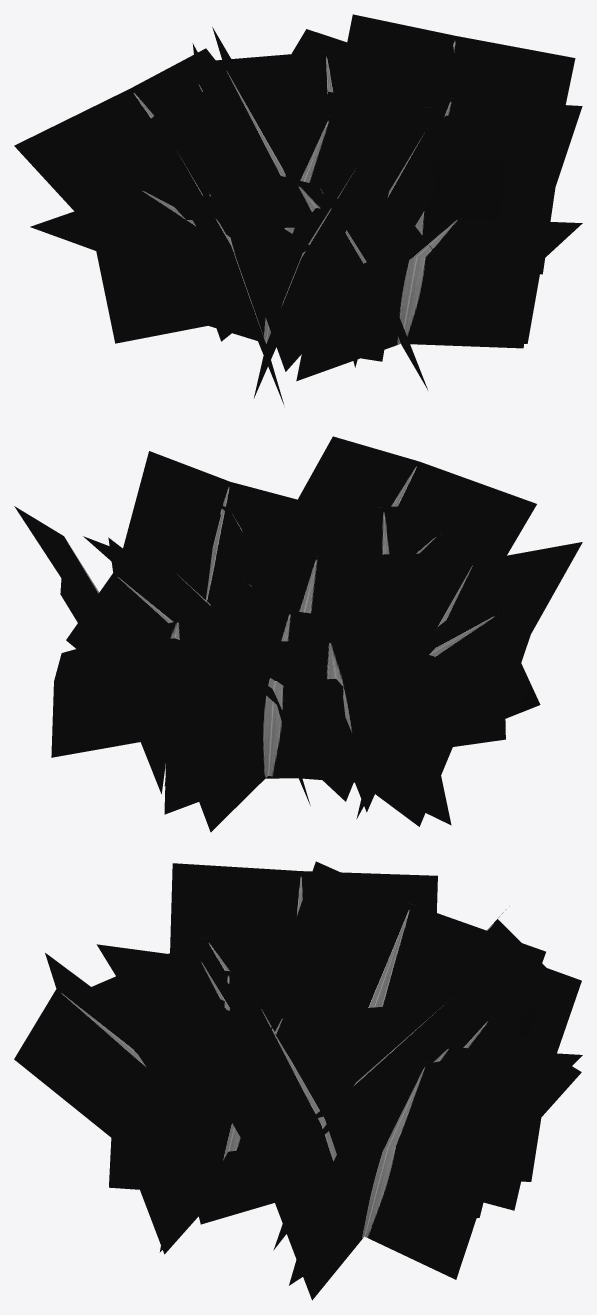
Rendered from WheatPlant01.fbx.
3 renders of one model, top to bottom at view 1: azimuth 30°, elevation 25°; view 2: azimuth 150°, elevation 25°; view 3: azimuth 270°, elevation 25°, orthographic. The views are drawn at different scales.
Visible parts, largest first — view 1: WheatPlant01_LOD0; view 2: WheatPlant01_LOD0; view 3: WheatPlant01_LOD0.
Part boxes in pixels (x1,y1,x2,y2): WheatPlant01_LOD0: (14, 14, 582, 405); WheatPlant01_LOD0: (14, 436, 582, 832); WheatPlant01_LOD0: (14, 861, 582, 1300).
Size of what is drawn, in the model's own units: 0.5532 by 0.2408 by 0.4857.
